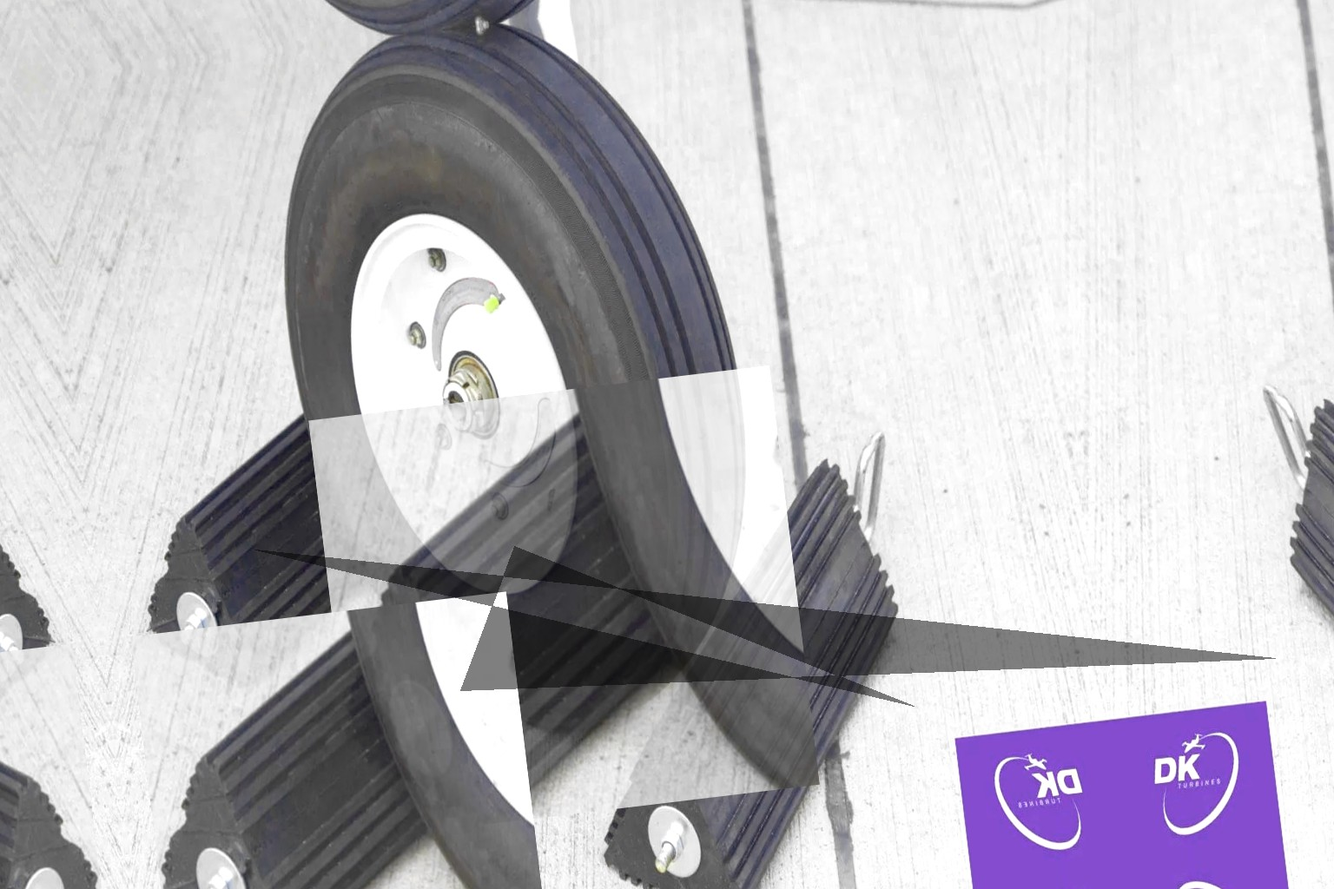chock: (309, 365, 820, 840), (557, 450, 934, 889), (131, 592, 547, 889), (122, 382, 464, 700)
wheel: (252, 2, 782, 766)
